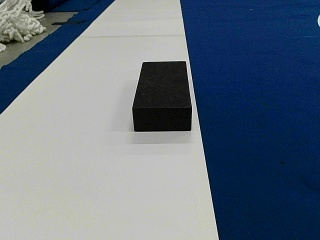block: (133, 60, 192, 131)
